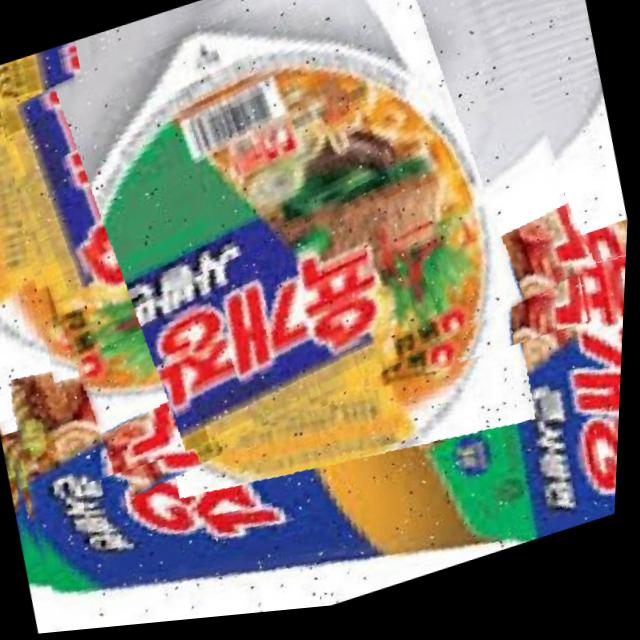Miscellaneous: (0, 0, 603, 497), (0, 212, 631, 640)
